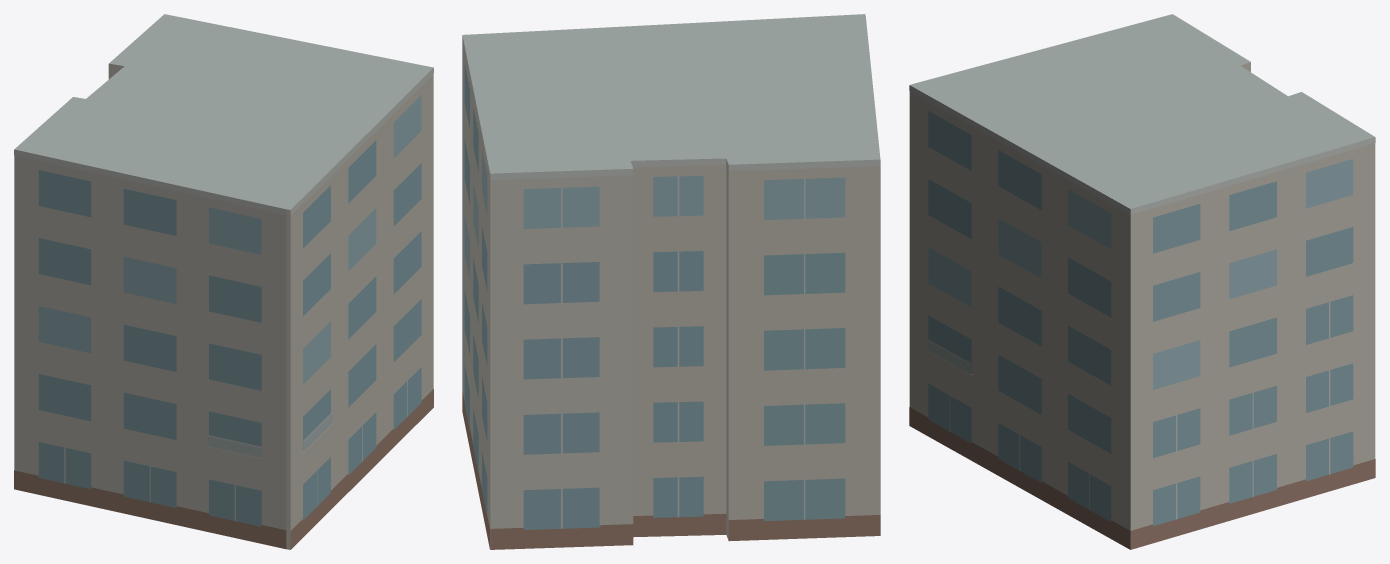
The model's file is survey-upis-32750897.glb.
3 renders of one model, left to right at view 1: azimuth 30°, elevation 25°; view 2: azimuth 150°, elevation 25°; view 3: azimuth 270°, elevation 25°, orthographic. The views are drawn at different scales.
Visible parts, largest first — view 1: survey-upis-32750897.tmp; view 2: survey-upis-32750897.tmp; view 3: survey-upis-32750897.tmp.
Part boxes in pixels (x1,y1,x2,y2): survey-upis-32750897.tmp: [14, 14, 433, 549]; survey-upis-32750897.tmp: [462, 14, 880, 549]; survey-upis-32750897.tmp: [909, 14, 1375, 549].
Bounding box in the file's own units: 17.25 × 14.05 × 17.42.
